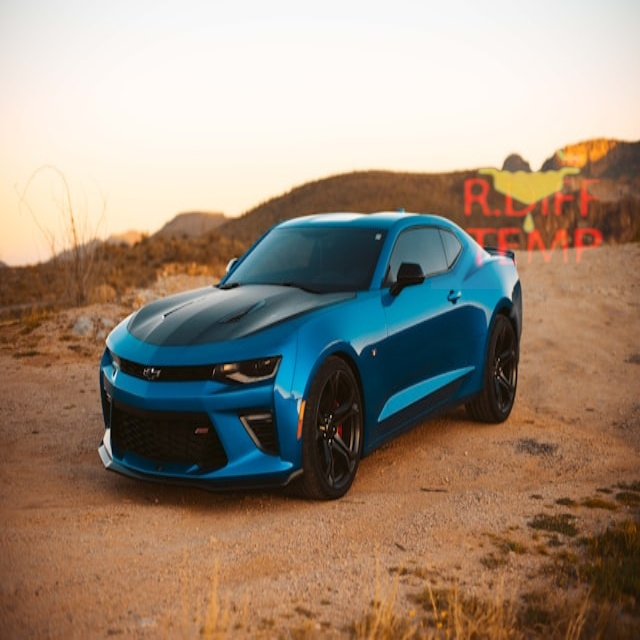symbol: (430, 121, 637, 328), (431, 91, 629, 289)
